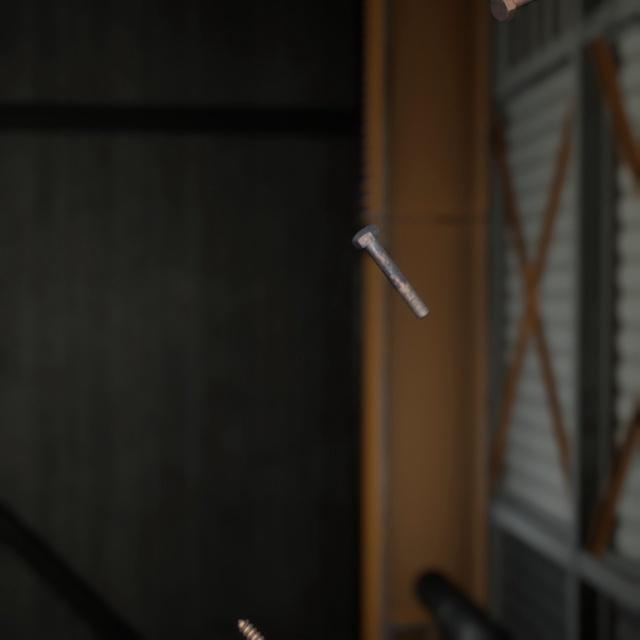bolt: (347, 204, 433, 307), (233, 590, 302, 640)
